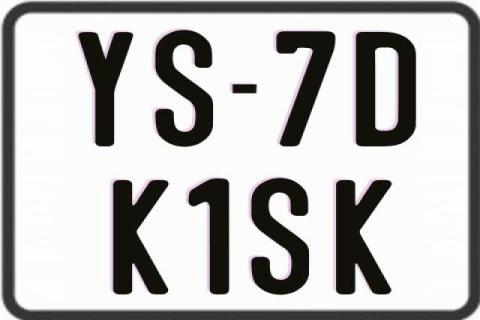0: (274, 31, 339, 150), (186, 177, 232, 293)
D: (354, 31, 420, 151)
K: (336, 178, 398, 294), (112, 178, 173, 292)
S: (152, 30, 216, 146), (249, 177, 307, 295)
Y: (77, 30, 138, 148)
